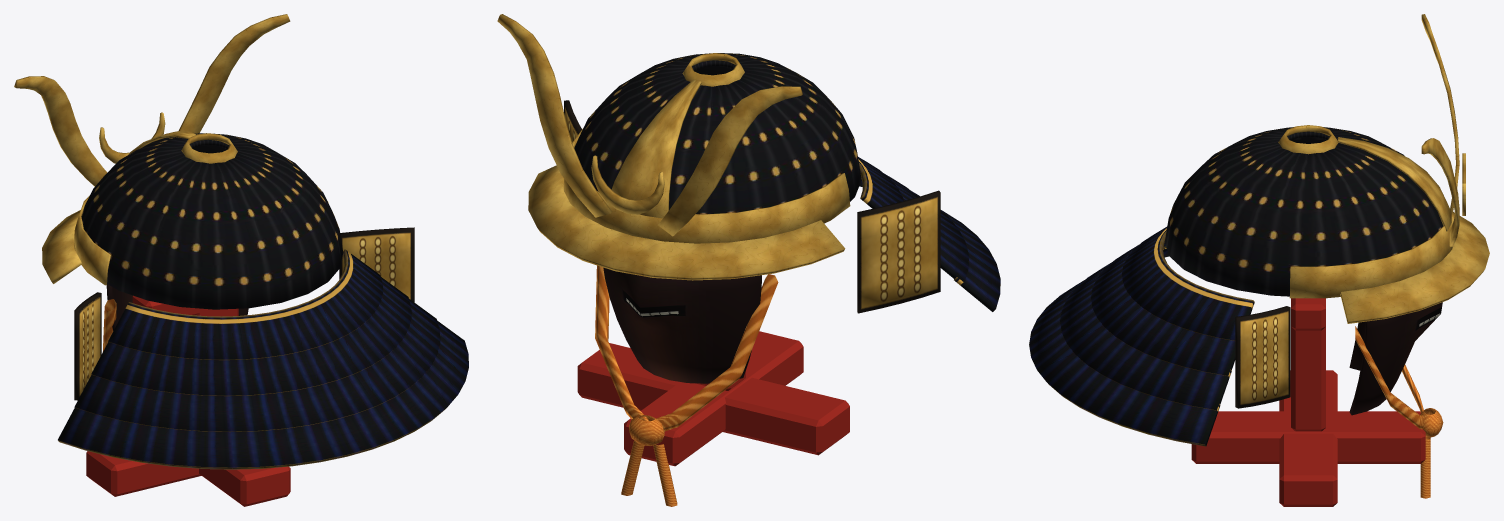
File: kabuto.glb
The picture shows the model from 3 angles, left to right: view 1: azimuth 30°, elevation 25°; view 2: azimuth 150°, elevation 25°; view 3: azimuth 270°, elevation 25°; orthographic projection. The views are drawn at different scales.
Parts seen in each view (by area): view 1: KabutoBowl, KabutoShikoro3, KabutoShikoro2, KabutoShikoro0, KabutoShikoro1, KabutoWing1, KabutoHorn-1, KabutoHorn1, KabutoStandBoard0, KabutoStandBoard1, KabutoWing-1, KabutoPeak (+5 smaller); view 2: KabutoBowl, KabutoPeak, KabutoMask, KabutoStandBoard0, KabutoWing-1, KabutoBand, KabutoStandBoard1, KabutoHorn1, KabutoCord, KabutoHorn-1, KabutoPlate, KabutoShikoro3 (+7 smaller); view 3: KabutoBowl, KabutoStandBoard1, KabutoShikoro3, KabutoShikoro2, KabutoShikoro1, KabutoShikoro0, KabutoPeak, KabutoWing1, KabutoStandBoard0, KabutoBand, KabutoMask, KabutoStandPost (+7 smaller).
Boxes of the visible parts, <box> form: KabutoBowl: <box>81,133,343,309</box>; KabutoShikoro3: <box>58,320,468,469</box>; KabutoShikoro2: <box>74,299,440,432</box>; KabutoShikoro0: <box>108,249,382,360</box>; KabutoShikoro1: <box>91,277,411,396</box>; KabutoWing1: <box>339,227,414,302</box>; KabutoHorn-1: <box>14,76,107,186</box>; KabutoHorn1: <box>178,14,290,133</box>; KabutoStandBoard0: <box>86,451,201,496</box>; KabutoStandBoard1: <box>199,466,290,506</box>; KabutoWing-1: <box>74,292,101,400</box>; KabutoPeak: <box>42,210,82,283</box>; KabutoBowl: <box>574,53,861,214</box>; KabutoPeak: <box>528,165,845,280</box>; KabutoMask: <box>603,267,761,383</box>; KabutoStandBoard0: <box>577,343,849,455</box>; KabutoWing-1: <box>857,190,940,313</box>; KabutoBand: <box>563,129,850,243</box>; KabutoStandBoard1: <box>624,331,803,466</box>; KabutoHorn1: <box>497,14,612,217</box>; KabutoCord: <box>595,265,778,431</box>; KabutoHorn-1: <box>658,86,802,236</box>; KabutoPlate: <box>606,79,701,218</box>; KabutoShikoro3: <box>859,178,1000,311</box>; KabutoBowl: <box>1164,127,1443,296</box>; KabutoStandBoard1: <box>1191,411,1425,463</box>; KabutoShikoro3: <box>1029,246,1220,446</box>; KabutoShikoro2: <box>1060,243,1231,410</box>; KabutoShikoro1: <box>1091,245,1235,376</box>; KabutoShikoro0: <box>1121,226,1254,340</box>; KabutoPeak: <box>1340,212,1489,323</box>; KabutoWing1: <box>1235,306,1290,408</box>; KabutoStandBoard0: <box>1279,370,1337,506</box>; KabutoBand: <box>1289,221,1452,298</box>; KabutoMask: <box>1349,302,1442,415</box>; KabutoStandPost: <box>1291,327,1325,431</box>.
Size of the model in its own units: 0.4037 by 0.3829 by 0.3938.
Materials: 8 (6 with a texture image).
